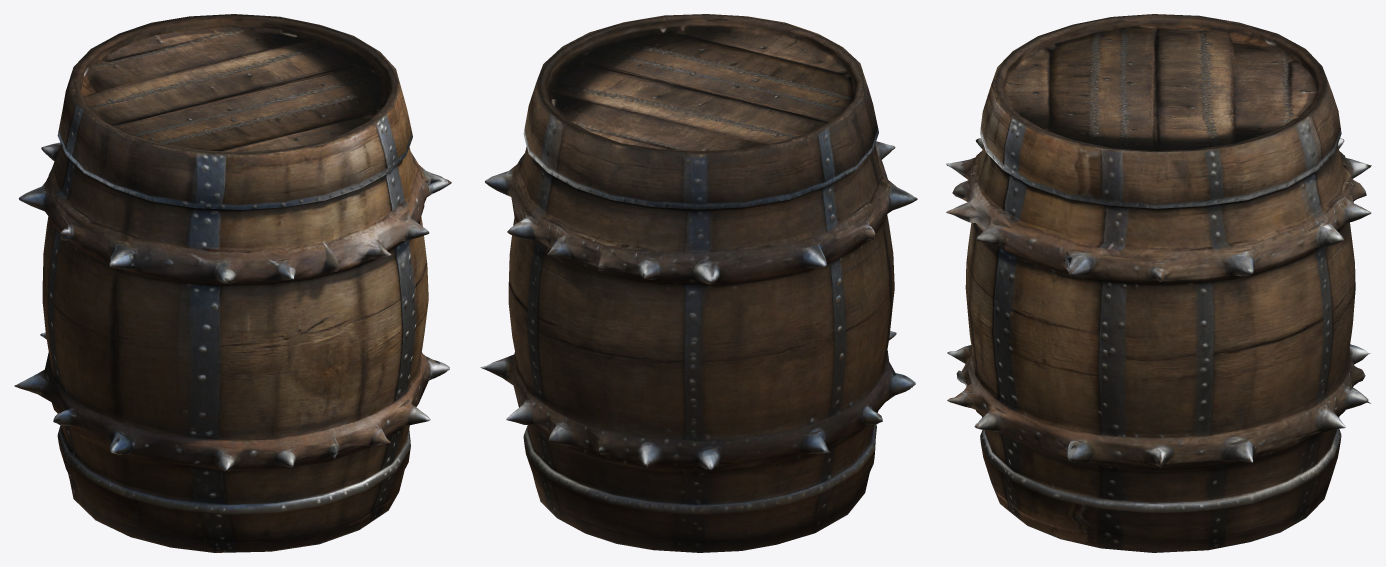
3 views of the same model, side by side, from view 1: azimuth 30°, elevation 25°; view 2: azimuth 150°, elevation 25°; view 3: azimuth 270°, elevation 25° (orthographic).
Bounding box in the file's own units: 1.88 × 1.98 × 1.91.
1 material, 1 textured.
